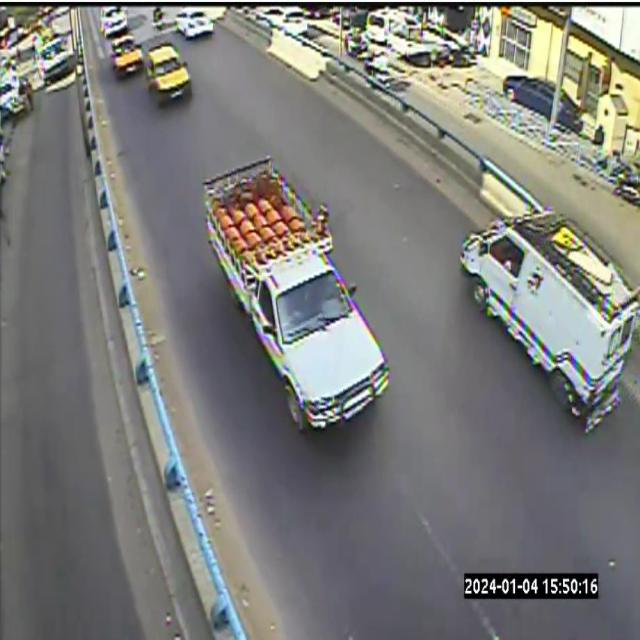car: (204, 156, 387, 430), (460, 194, 639, 431), (145, 42, 191, 104), (111, 33, 142, 76), (176, 7, 214, 39), (100, 7, 128, 38)
